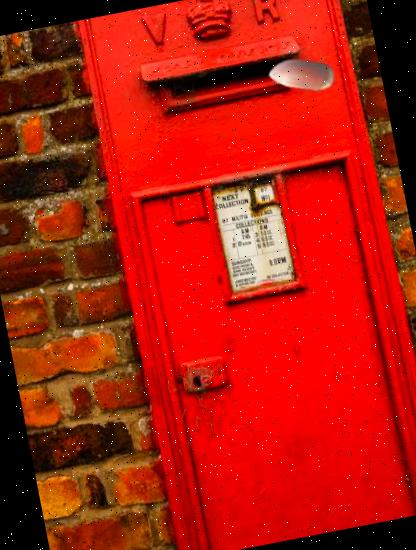Hazelnut: (262, 34, 341, 114)
